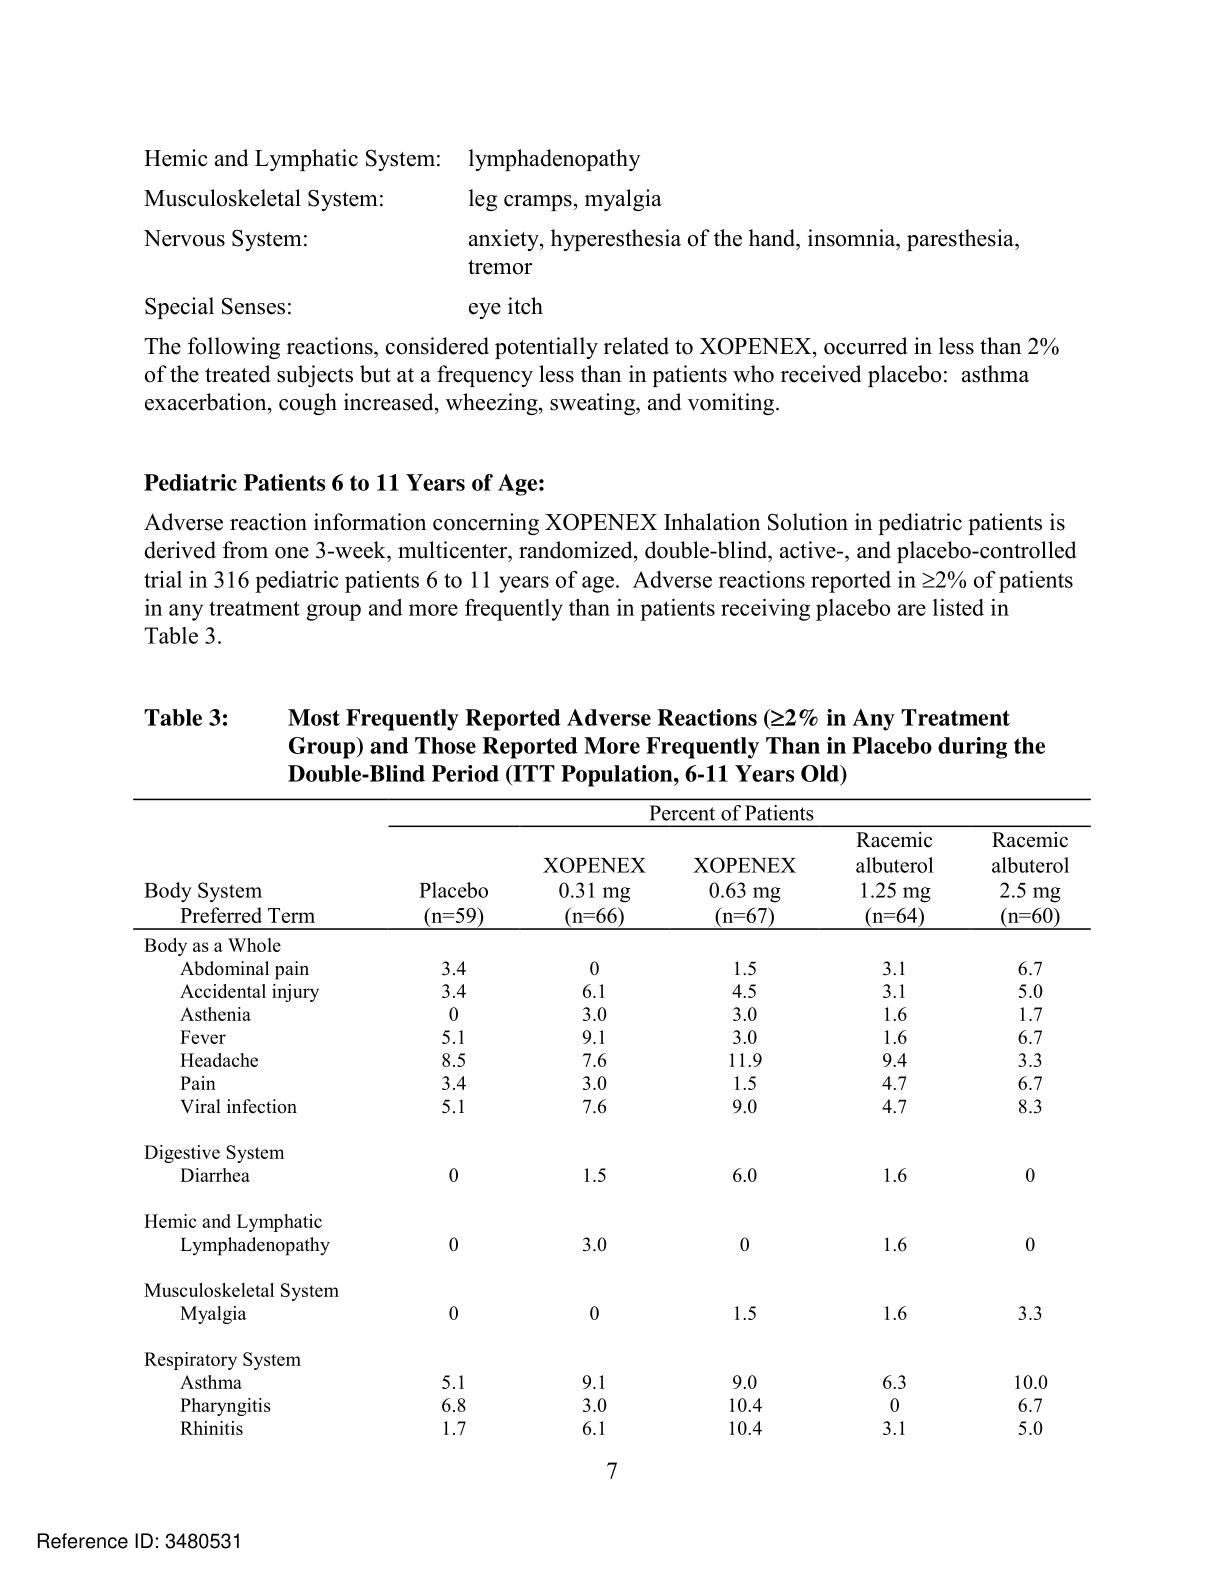nolines: (139, 145, 1023, 324)
partial_lined_merged_cells: (129, 796, 1093, 1440)
